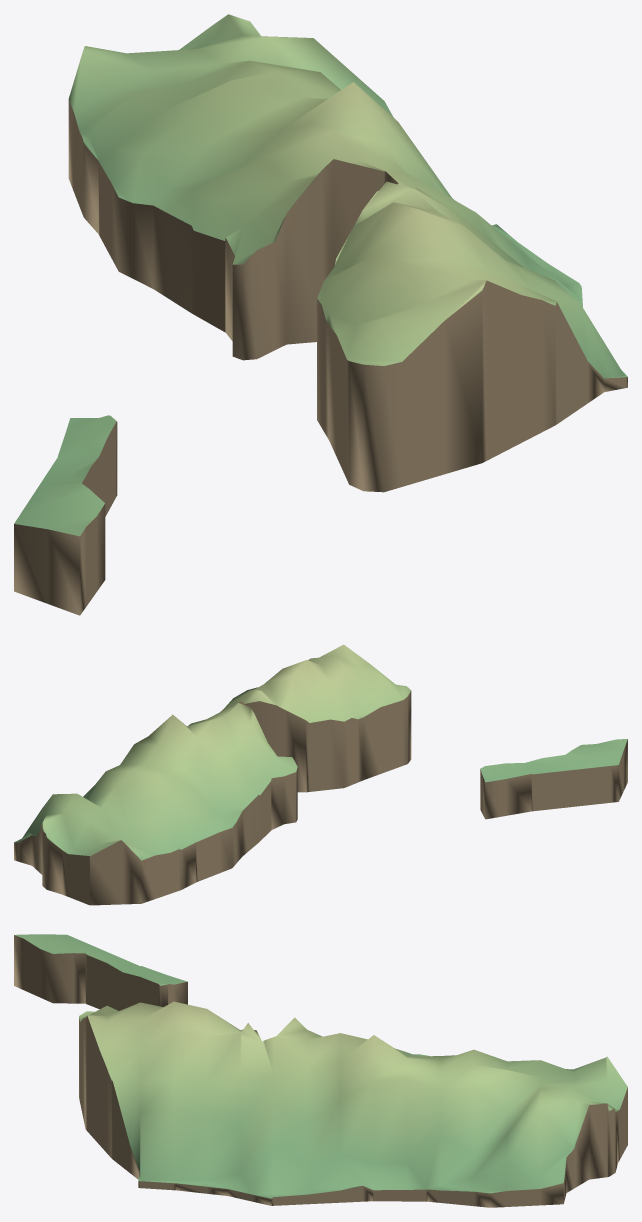
Rendered from PSX.glb.
3 renders of one model, top to bottom at view 1: azimuth 30°, elevation 25°; view 2: azimuth 150°, elevation 25°; view 3: azimuth 270°, elevation 25°, orthographic. The views are drawn at different scales.
Parts seen in each view (by area): view 1: PSX; view 2: PSX; view 3: PSX.
Boxes of the visible parts, x1,y1,x2,y2 form: PSX: (14,14,627,615); PSX: (14,644,627,905); PSX: (14,934,627,1207).
Bounding box in the file's own units: 1.28 × 0.338 × 1.45.
